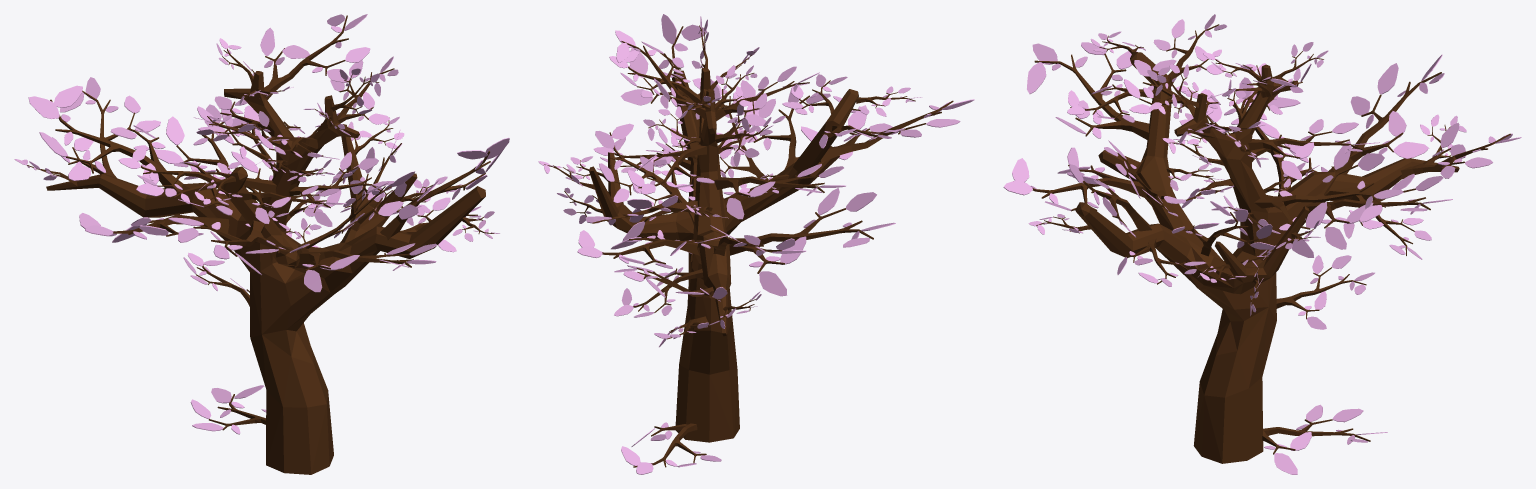
Rendered from Tree_000.fbx.
The picture shows the model from 3 angles, left to right: view 1: azimuth 30°, elevation 25°; view 2: azimuth 150°, elevation 25°; view 3: azimuth 270°, elevation 25°; orthographic projection. The views are drawn at different scales.
Visible parts, largest first — view 1: Tree, Barch.018|Branch|Dupli|, Barch.001|Branch|Dupli|, Barch.029|Branch|Dupli|, Barch.026|Branch|Dupli|, Barch.024|Branch|Dupli|, Barch.016|Branch|Dupli|, Barch.014|Branch|Dupli|, Barch.033|Branch|Dupli|, Barch.021|Branch|Dupli|, Barch.025|Branch|Dupli|, Barch.035|Branch|Dupli| (+2 smaller); view 2: Tree, Barch.016|Branch|Dupli|, Barch.024|Branch|Dupli|, Barch.014|Branch|Dupli|, Barch.015|Branch|Dupli|, Barch.001|Branch|Dupli|, Barch.038|Branch|Dupli|, Barch.003|Branch|Dupli|, Barch.011|Branch|Dupli|, Barch.026|Branch|Dupli|, Barch.018|Branch|Dupli|, Barch.008|Branch|Dupli| (+4 smaller); view 3: Tree, Barch.024|Branch|Dupli|, Barch.011|Branch|Dupli|, Barch.018|Branch|Dupli|, Barch.026|Branch|Dupli|, Barch.003|Branch|Dupli|, Barch.015|Branch|Dupli|, Barch.038|Branch|Dupli|, Barch.021|Branch|Dupli|, Barch.029|Branch|Dupli|, Barch.037|Branch|Dupli|, Barch.033|Branch|Dupli|.
Boxes of the visible parts, x1,y1,x2,y2 form: Tree: [46, 71, 485, 474]; Barch.018|Branch|Dupli|: [50, 99, 183, 193]; Barch.001|Branch|Dupli|: [259, 15, 348, 99]; Barch.029|Branch|Dupli|: [380, 151, 490, 240]; Barch.026|Branch|Dupli|: [298, 250, 413, 270]; Barch.024|Branch|Dupli|: [193, 220, 293, 256]; Barch.016|Branch|Dupli|: [113, 214, 229, 236]; Barch.014|Branch|Dupli|: [164, 168, 276, 207]; Barch.033|Branch|Dupli|: [340, 143, 401, 242]; Barch.021|Branch|Dupli|: [68, 90, 138, 177]; Barch.025|Branch|Dupli|: [237, 191, 330, 208]; Barch.035|Branch|Dupli|: [141, 162, 223, 191]; Tree: [589, 67, 858, 442]; Barch.016|Branch|Dupli|: [729, 208, 873, 273]; Barch.024|Branch|Dupli|: [819, 100, 953, 162]; Barch.014|Branch|Dupli|: [714, 175, 824, 198]; Barch.015|Branch|Dupli|: [602, 236, 699, 265]; Barch.001|Branch|Dupli|: [621, 41, 705, 119]; Barch.038|Branch|Dupli|: [633, 423, 706, 467]; Barch.003|Branch|Dupli|: [638, 144, 706, 188]; Barch.011|Branch|Dupli|: [592, 201, 697, 223]; Barch.026|Branch|Dupli|: [753, 95, 809, 169]; Barch.018|Branch|Dupli|: [682, 236, 781, 255]; Barch.008|Branch|Dupli|: [715, 81, 809, 120]; Tree: [1075, 51, 1459, 463]; Barch.024|Branch|Dupli|: [1034, 53, 1149, 139]; Barch.011|Branch|Dupli|: [1254, 164, 1385, 229]; Barch.018|Branch|Dupli|: [1328, 72, 1441, 175]; Barch.026|Branch|Dupli|: [1032, 165, 1147, 211]; Barch.003|Branch|Dupli|: [1248, 131, 1364, 161]; Barch.015|Branch|Dupli|: [1303, 188, 1430, 228]; Barch.038|Branch|Dupli|: [1262, 419, 1370, 454]; Barch.021|Branch|Dupli|: [1399, 133, 1510, 180]; Barch.029|Branch|Dupli|: [1068, 165, 1151, 231]; Barch.037|Branch|Dupli|: [1276, 267, 1366, 319]; Barch.033|Branch|Dupli|: [1183, 212, 1259, 256].
Size of the model in its own units: 1295 by 1434 by 1638.
